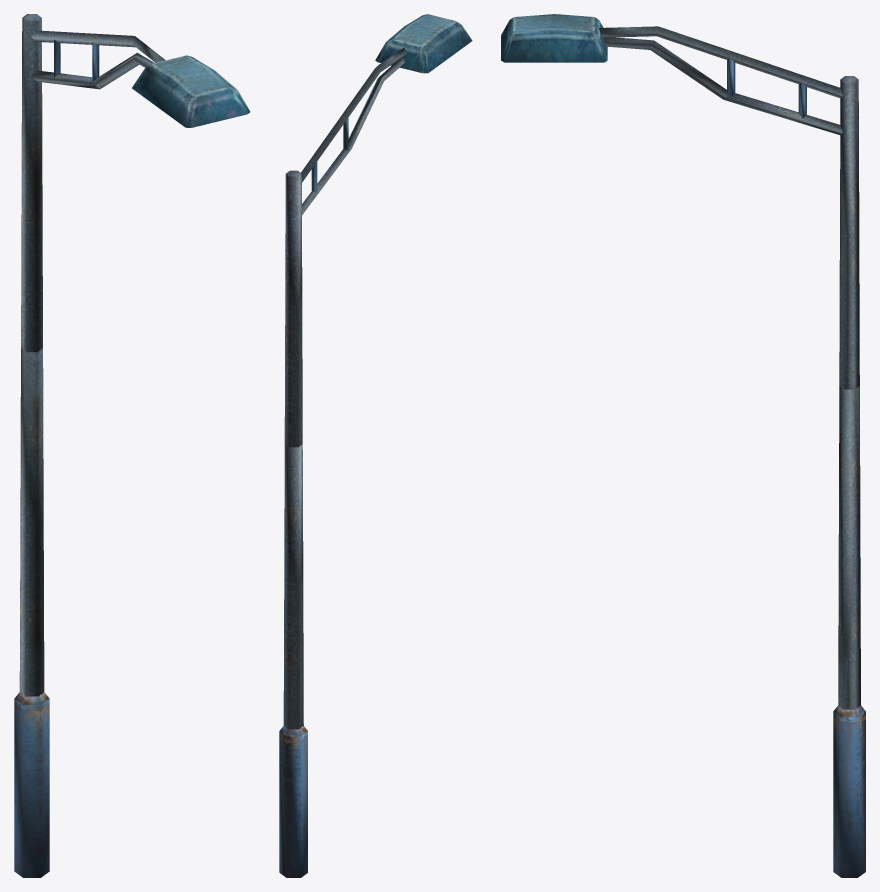
The model's file is Prop_Ld01.glb.
3 views of the same model, side by side, from view 1: azimuth 30°, elevation 25°; view 2: azimuth 150°, elevation 25°; view 3: azimuth 270°, elevation 25° (orthographic). The views are drawn at different scales.
Visible parts, largest first — view 1: xiutz_ld01; view 2: xiutz_ld01; view 3: xiutz_ld01.
Boxes of the visible parts, x1=… form: xiutz_ld01: x1=14, y1=14, x2=250, y2=877; xiutz_ld01: x1=279, y1=14, x2=472, y2=877; xiutz_ld01: x1=501, y1=14, x2=865, y2=877.
Size of the model in its own units: 0.5877 by 7.93 by 3.08.
1 material, 1 textured.
